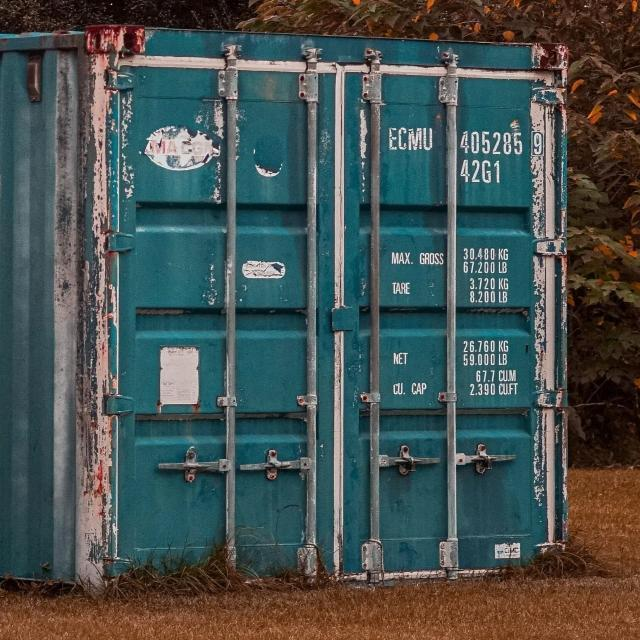ISO: (460, 159, 508, 184)
container_number: (388, 124, 550, 158)
